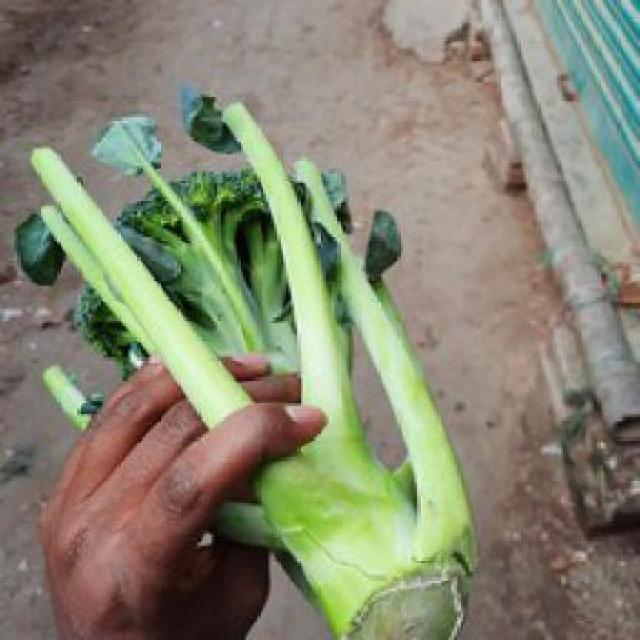broccoli: (77, 152, 486, 578)
